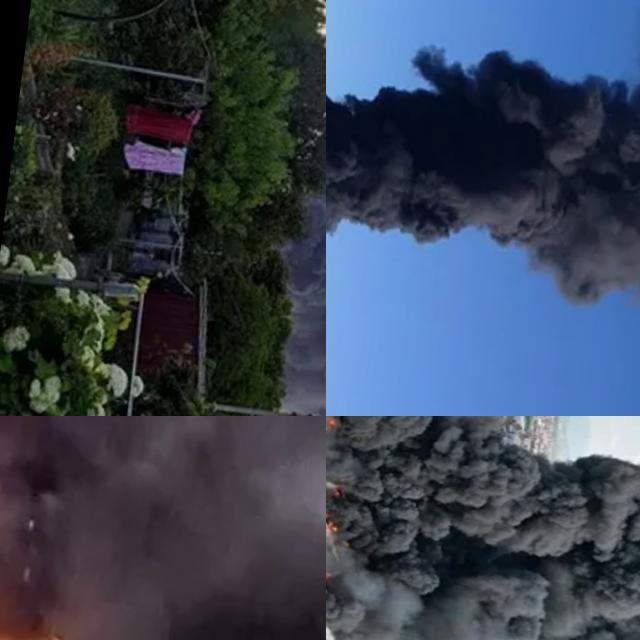smoke: (326, 0, 640, 363), (0, 416, 326, 640), (326, 416, 640, 640)
